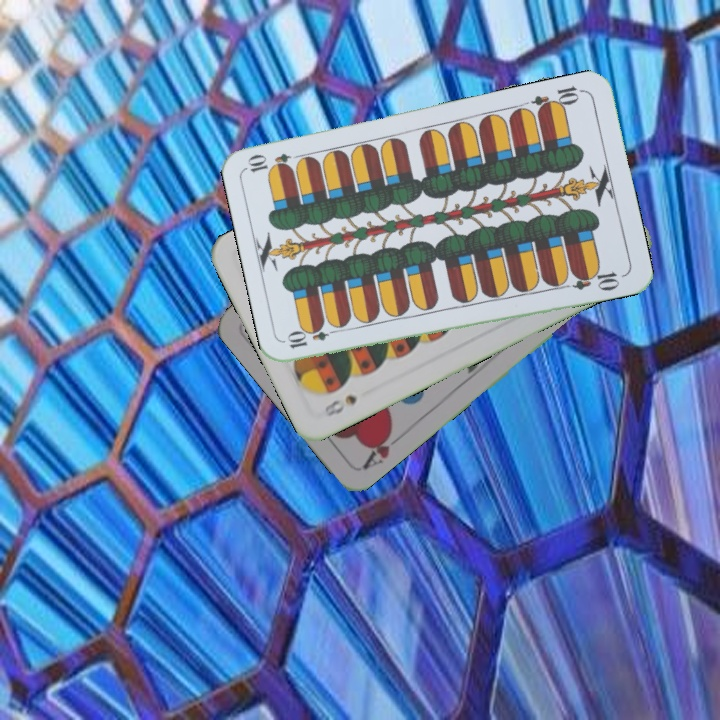E10: (528, 81, 587, 117), (283, 323, 342, 351)
HA: (358, 423, 407, 473)
S8: (320, 390, 360, 420)
